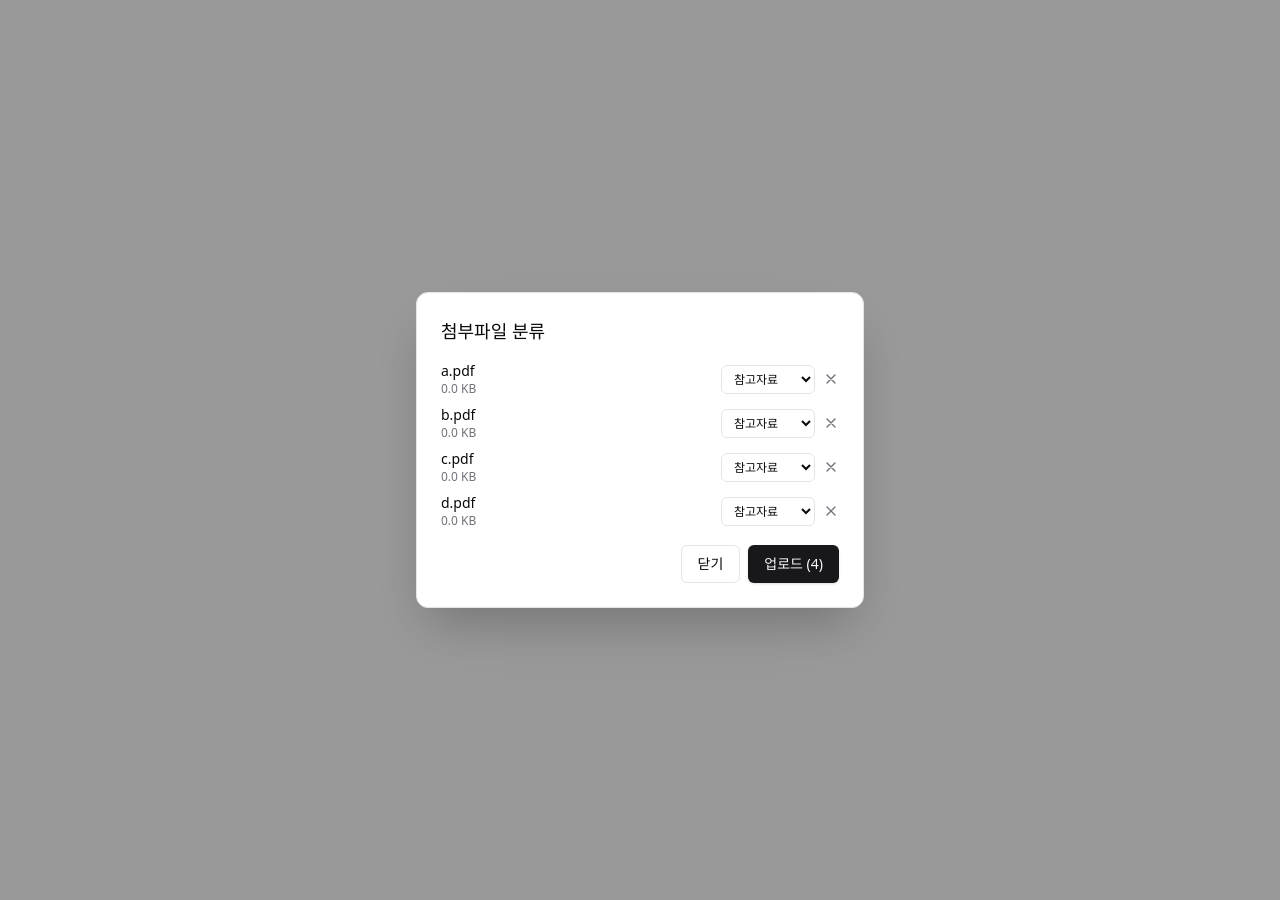
Test: AttachmentTriageDialog › 업로드 중에는 아직 대기 중(pending)인 파일의 제거 버튼도 비활성화된다
Click the button "업로드 (4)" at (794, 564), box [748, 545, 839, 583]
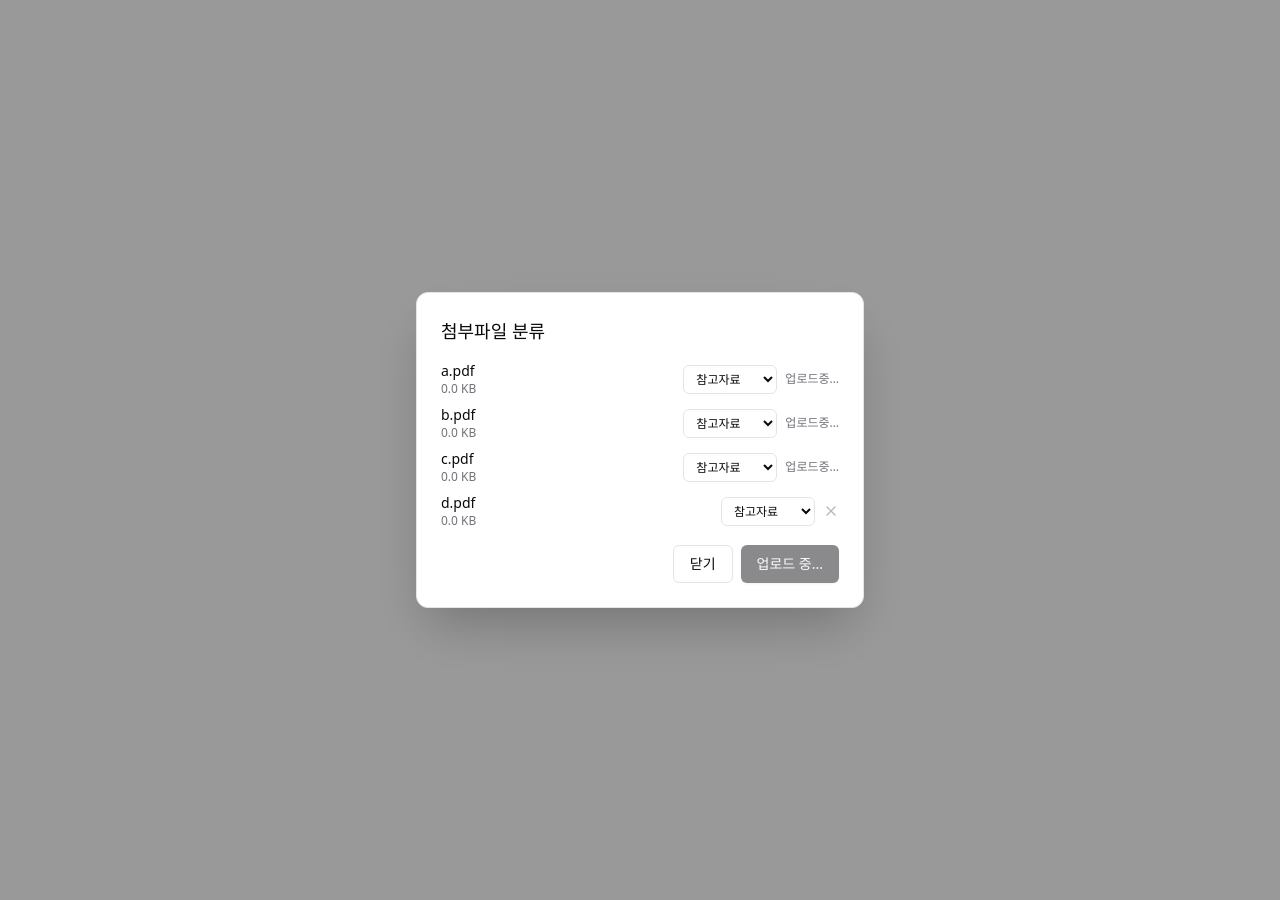
Expected: the button named "d.pdf 제거" is disabled, [823, 503, 839, 519]
